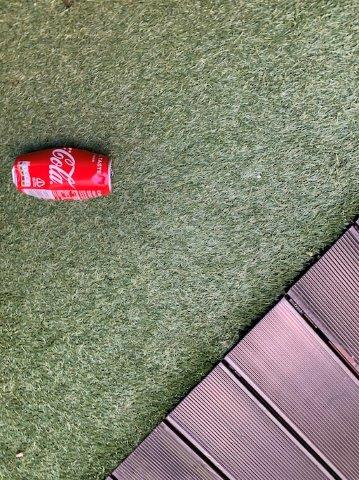kaleng: (12, 148, 111, 203)
